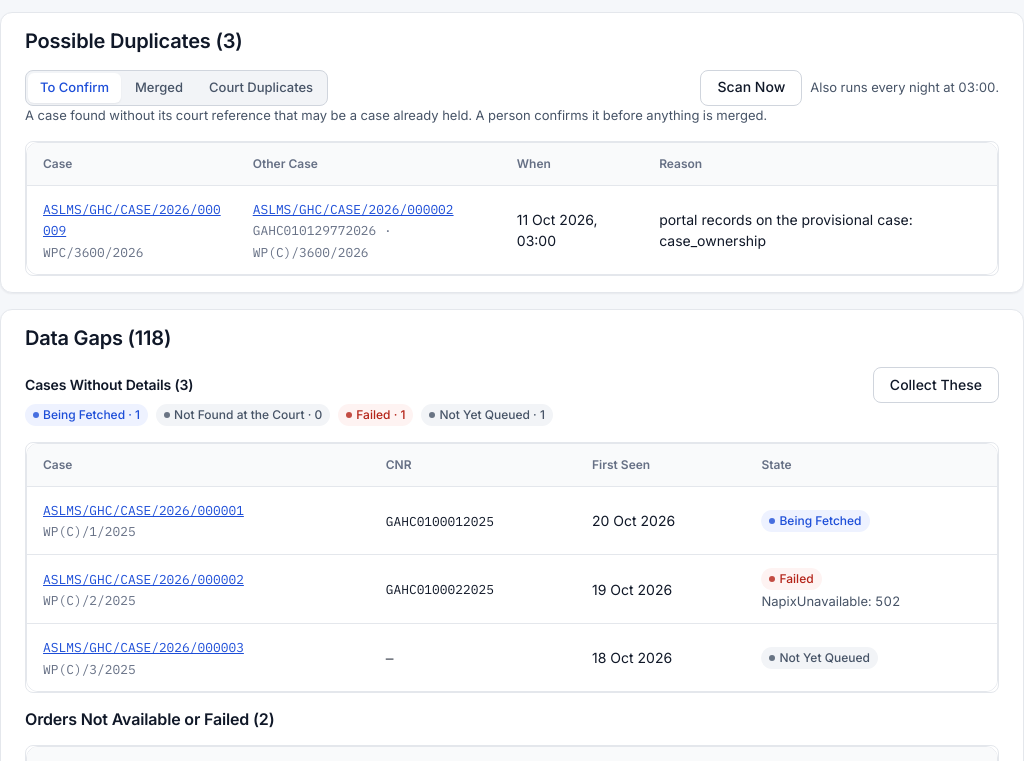
Test case: Problems and Fixes (decisions 42-46) › Data Gaps: the cases with their state and Collect These for the ones not being fetched (admin.data_load)
(page scrolled)
Expected: the text "Being Fetched" is shown, [780, 512, 862, 530]
Expected: the text "NapixUnavailable: 502" is shown, [762, 593, 900, 609]
Click the button "Collect These". click: (936, 385)
box: [873, 367, 999, 403]
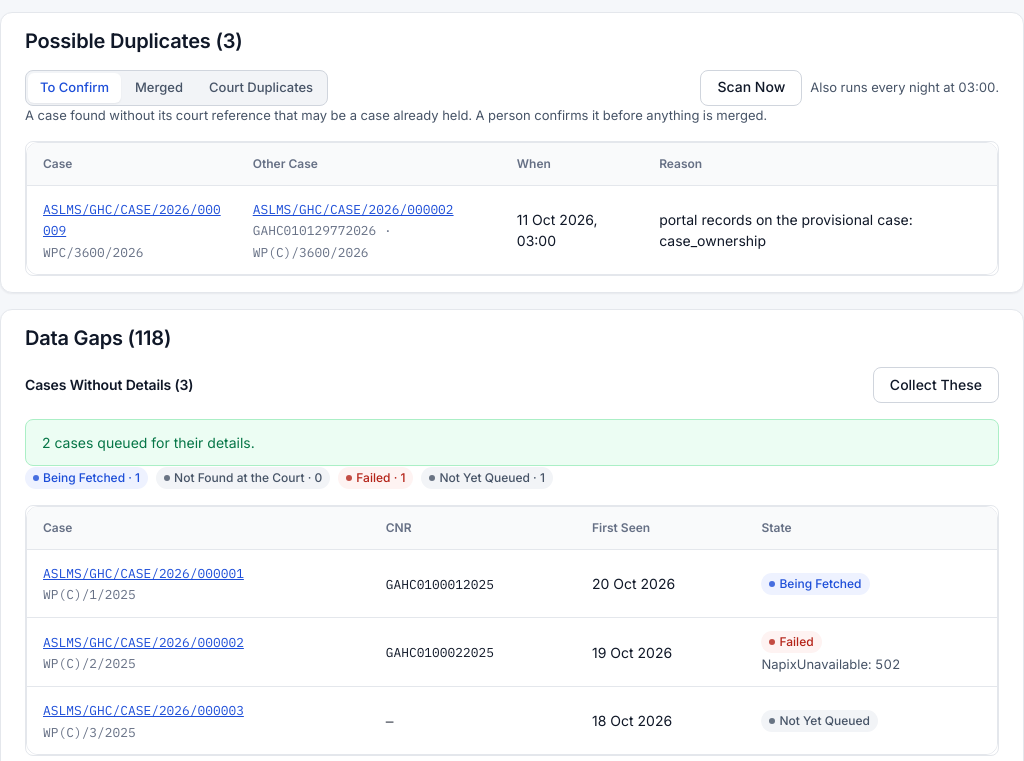
Result: the text "2 cases queued for their details." is shown at [25, 419, 999, 466]
